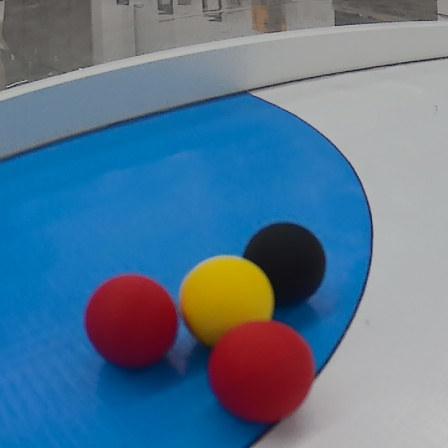black: (251, 219, 325, 308)
blue_base: (0, 85, 375, 444)
red: (211, 322, 315, 424), (83, 273, 178, 370)
yellow: (180, 256, 275, 347)
